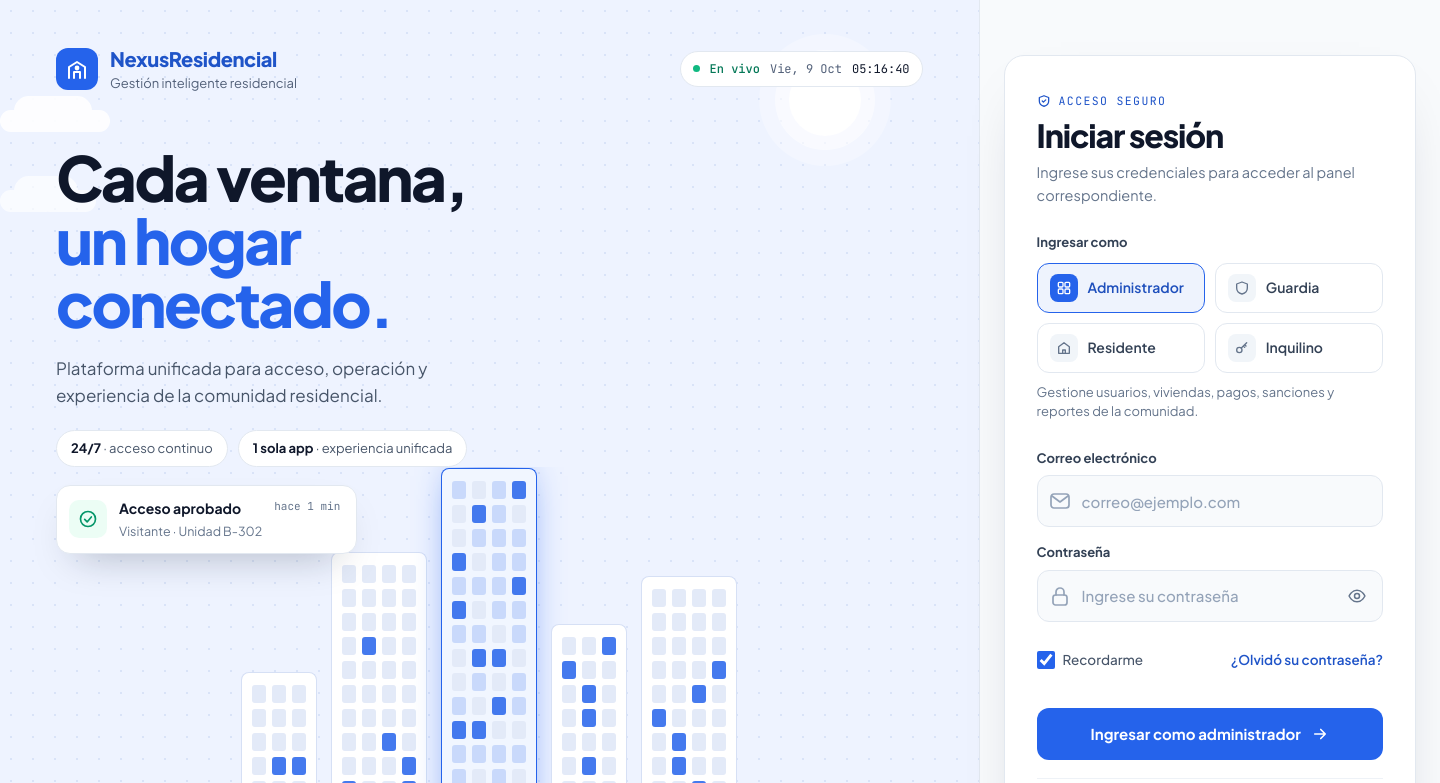
LoginView error state › muestra el error, termina el loading y conserva los valores
Type "usuario@nexus.test" into the field labelled "Correo electrónico" at (1232, 501), box [1082,476,1382,526]
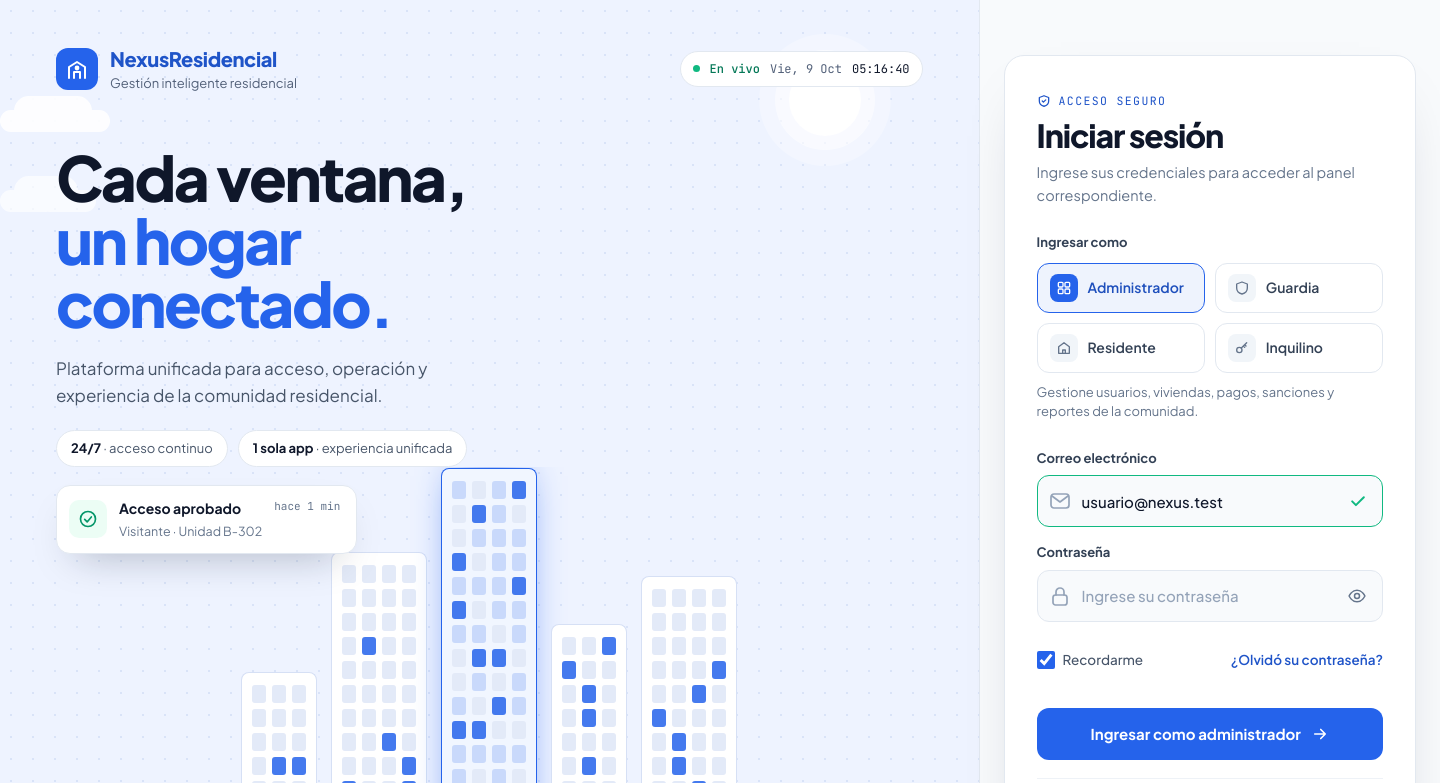
Type "clave-segura" into the password field labelled "Contraseña" at (1208, 596), box [1082,571,1335,621]
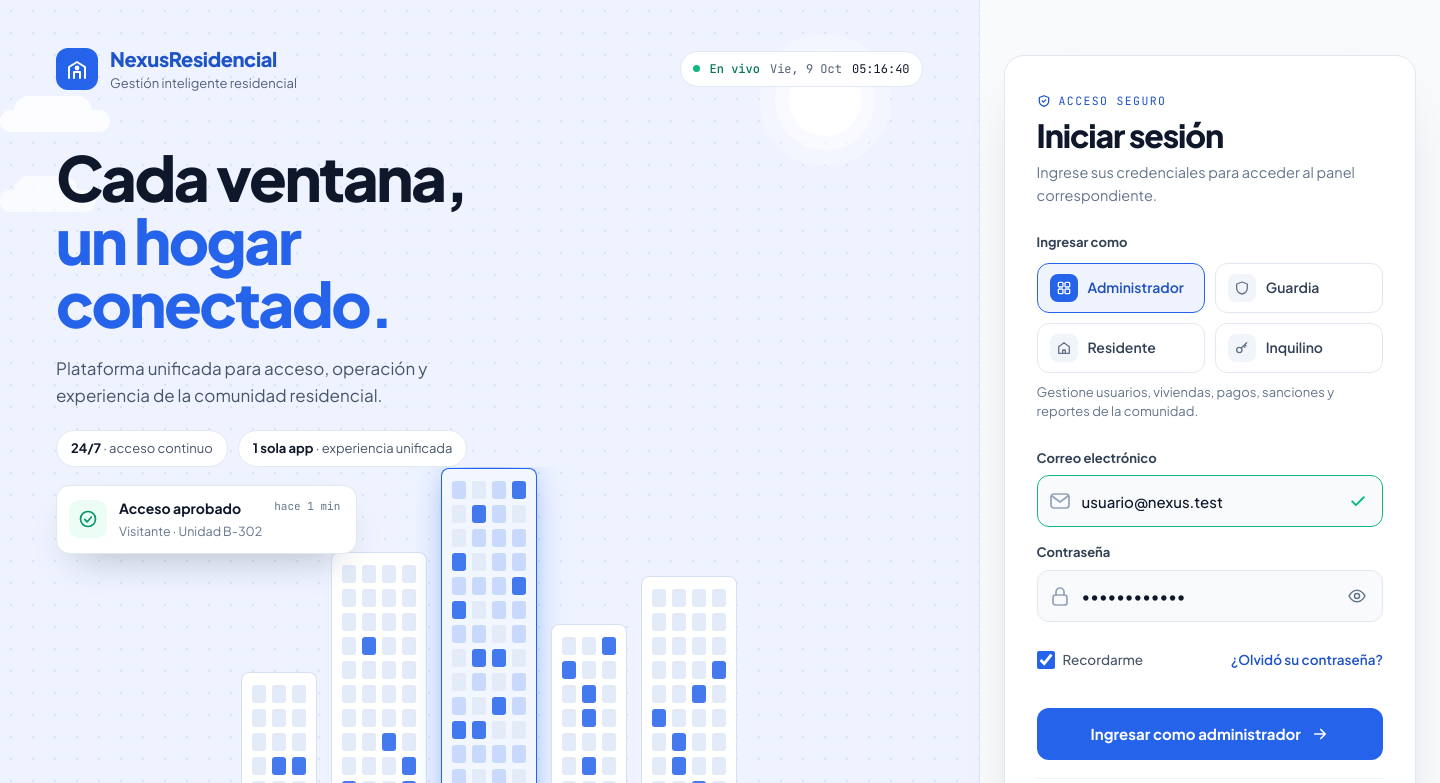
Click the button "Ingresar como administrador" at (1210, 734), box [1037,708,1383,760]
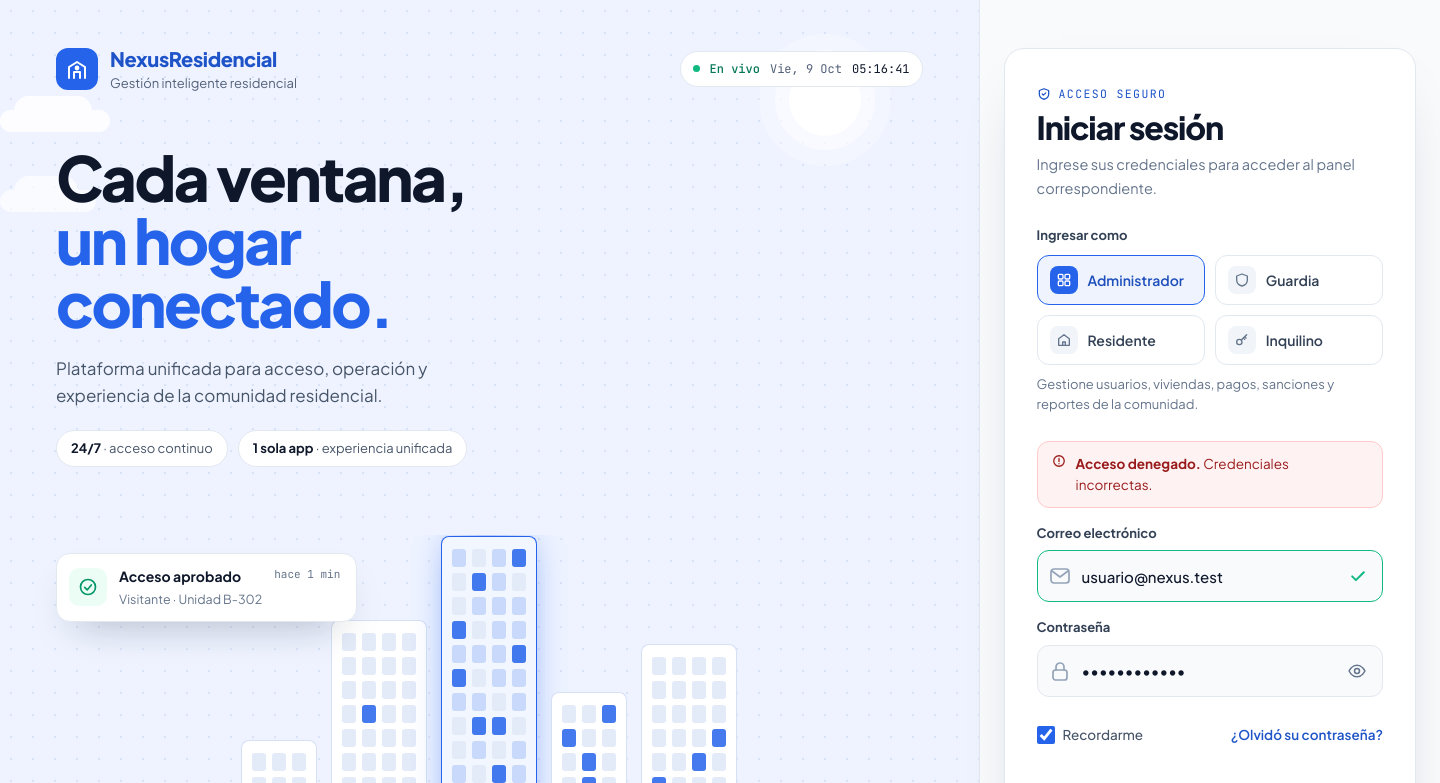
Check: the message shows "Credenciales incorrectas.", box [1076,455,1289,493]
